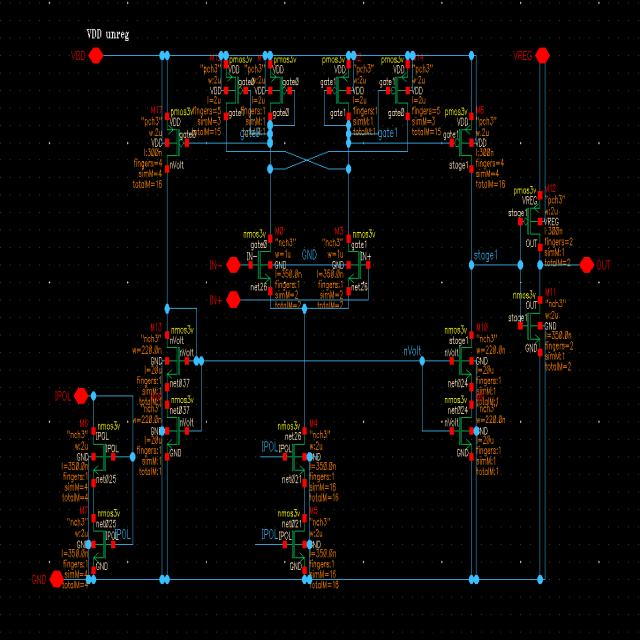nmos: (512, 290, 544, 357), (164, 396, 195, 464), (90, 421, 121, 489), (277, 422, 308, 490), (443, 324, 475, 389), (242, 228, 272, 296), (164, 326, 194, 394), (444, 395, 474, 462), (277, 508, 308, 572), (345, 230, 375, 296), (90, 510, 118, 574)
pmos: (444, 106, 474, 176), (380, 57, 411, 121), (164, 106, 193, 174), (513, 185, 542, 253), (323, 56, 353, 119), (222, 59, 249, 123), (268, 57, 293, 119)
